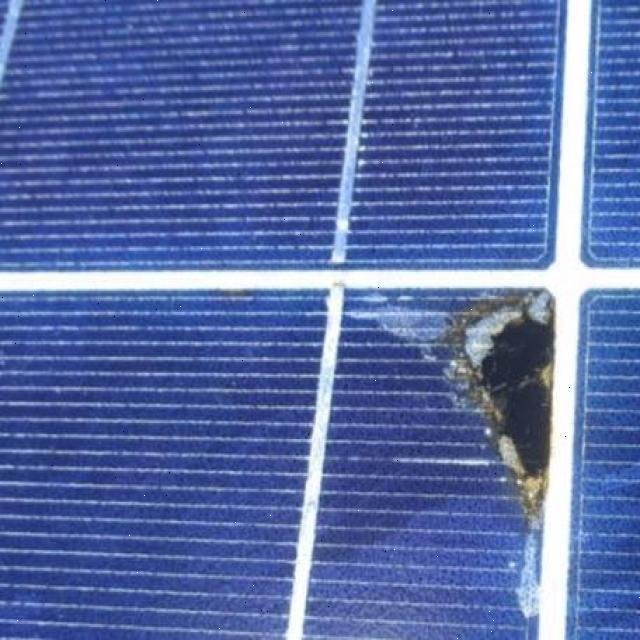Structural Damage: (446, 288, 554, 513)
